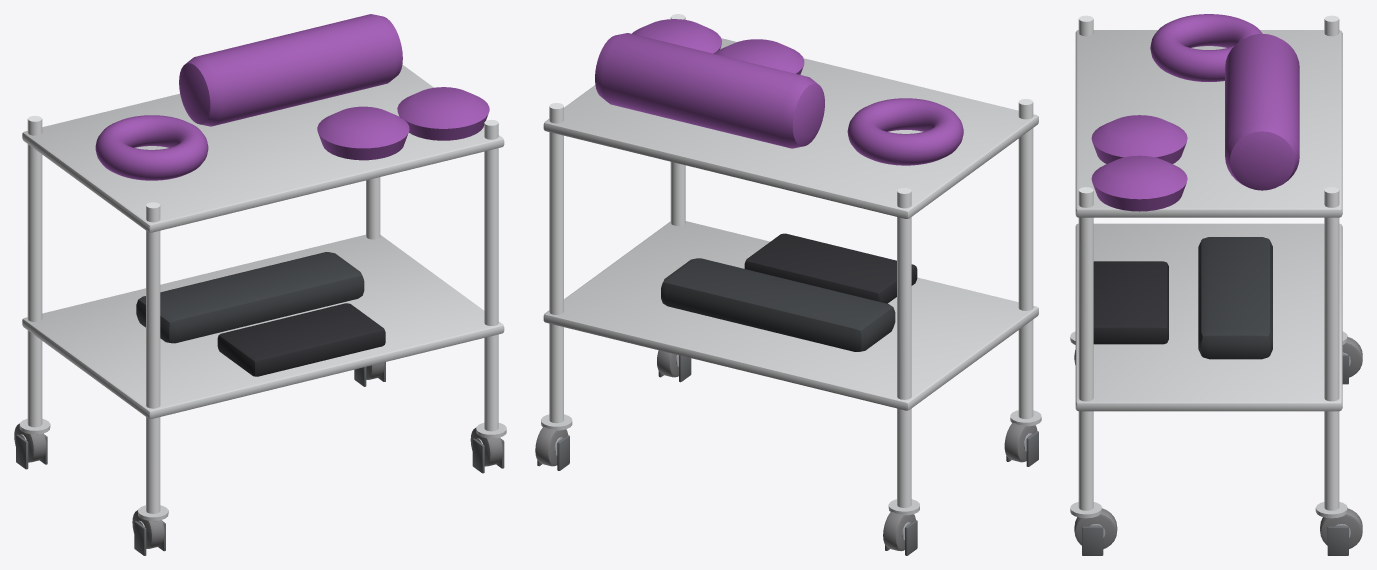
File: PositioningAidsTrolley.fbx
3 views of the same model, side by side, from view 1: azimuth 30°, elevation 25°; view 2: azimuth 150°, elevation 25°; view 3: azimuth 270°, elevation 25° (orthographic). The views are drawn at different scales.
Parts seen in each view (by area): view 1: PositioningAidsTrolley_Mesh; view 2: PositioningAidsTrolley_Mesh; view 3: PositioningAidsTrolley_Mesh.
Boxes of the visible parts, x1,y1,x2,y2 form: PositioningAidsTrolley_Mesh: (14, 14, 506, 555); PositioningAidsTrolley_Mesh: (535, 14, 1041, 555); PositioningAidsTrolley_Mesh: (1070, 14, 1362, 555).
Bounding box in the file's own units: 0.83 × 0.855 × 0.548.
